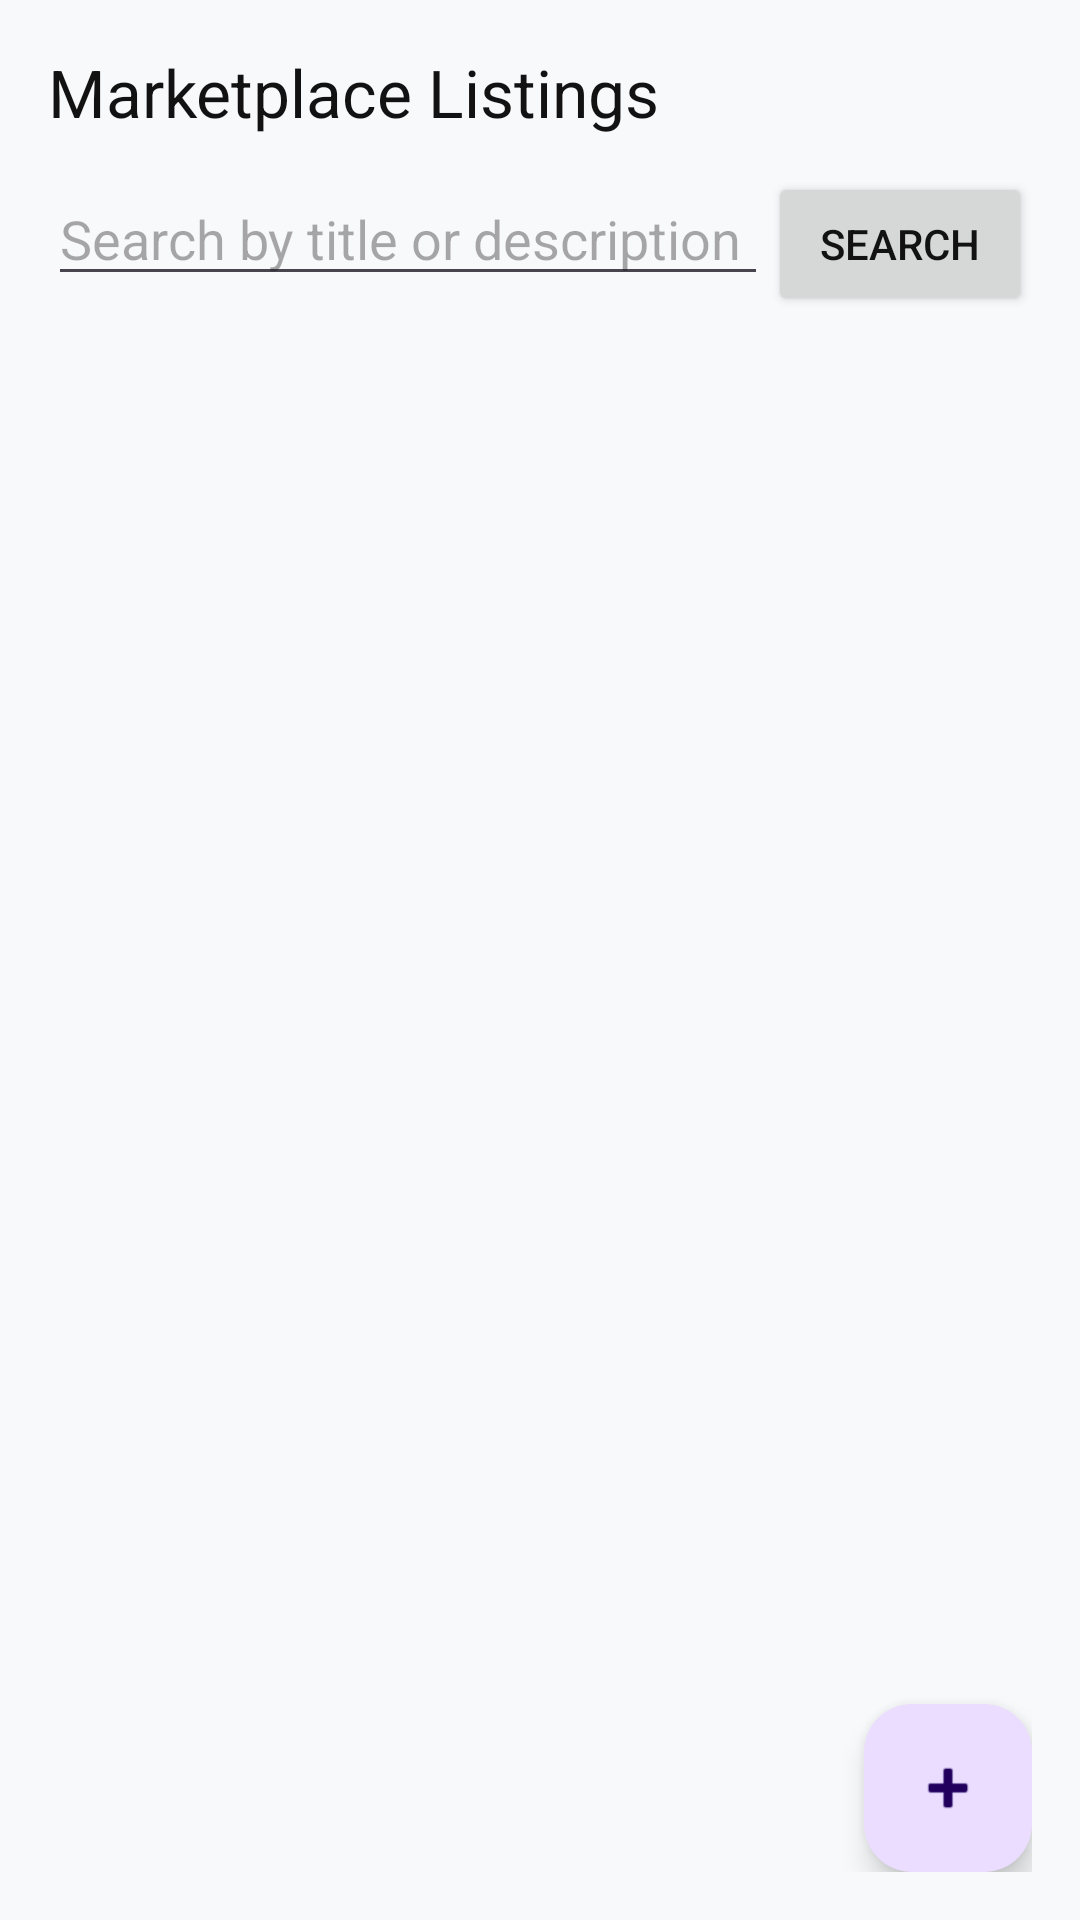

Where icons sit on this 1080w x 1920h app screen, as (x1, y1, x2, y2):
Add Listing: (864, 1704, 1032, 1872)
